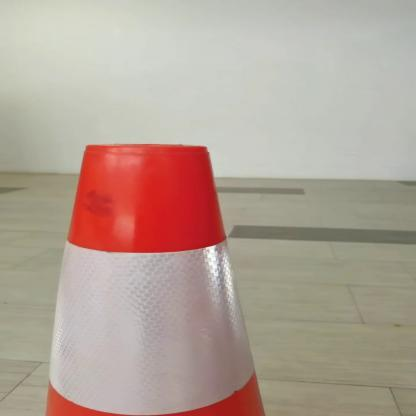cone: (38, 130, 308, 415)
